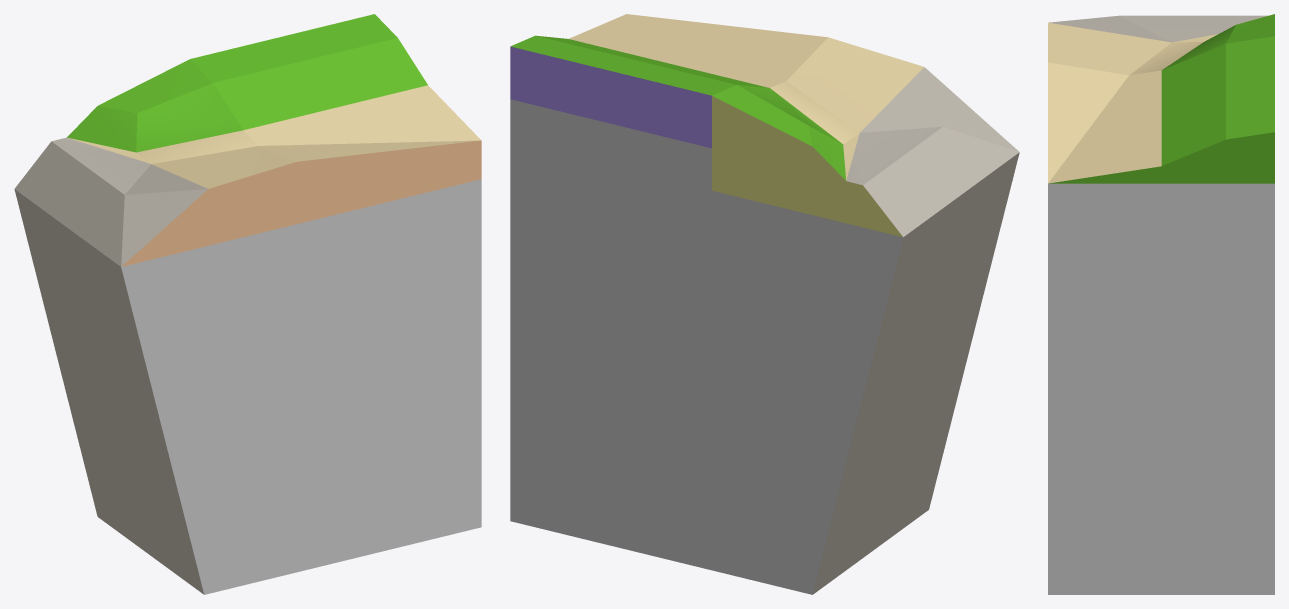
Rendered from Path_Bridge_Edge_Top_1x2.glb.
3 renders of one model, left to right at view 1: azimuth 30°, elevation 25°; view 2: azimuth 150°, elevation 25°; view 3: azimuth 270°, elevation 25°, orthographic. The views are drawn at different scales.
Visible parts, largest first — view 1: Path_Bridge_Edge_Top_1x2; view 2: Path_Bridge_Edge_Top_1x2; view 3: Path_Bridge_Edge_Top_1x2.
Part boxes in pixels (x1,y1,x2,y2): Path_Bridge_Edge_Top_1x2: (14, 14, 481, 594); Path_Bridge_Edge_Top_1x2: (510, 14, 1019, 594); Path_Bridge_Edge_Top_1x2: (1048, 14, 1274, 594).
Size of the model in its own units: 195 by 225 by 100.
